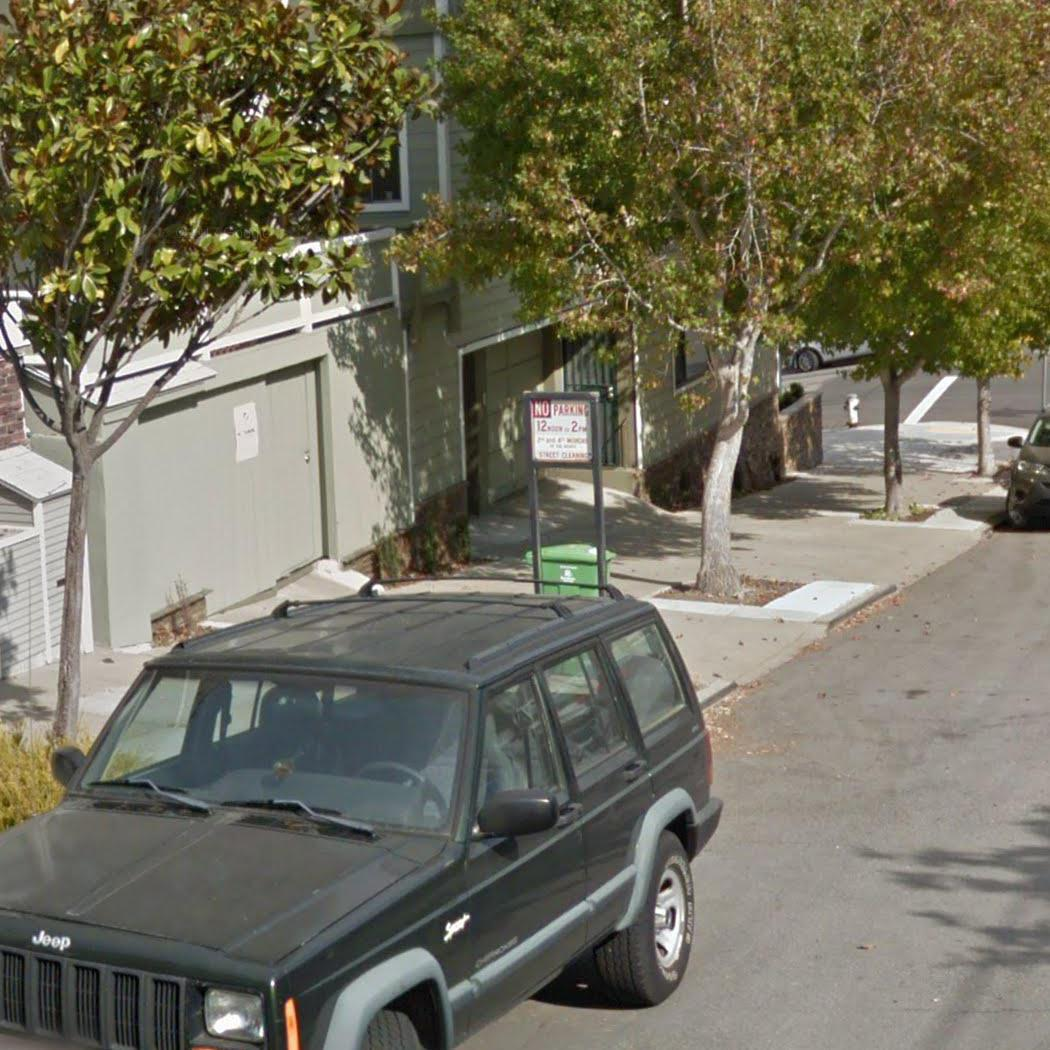No Parking: (524, 393, 599, 468)
